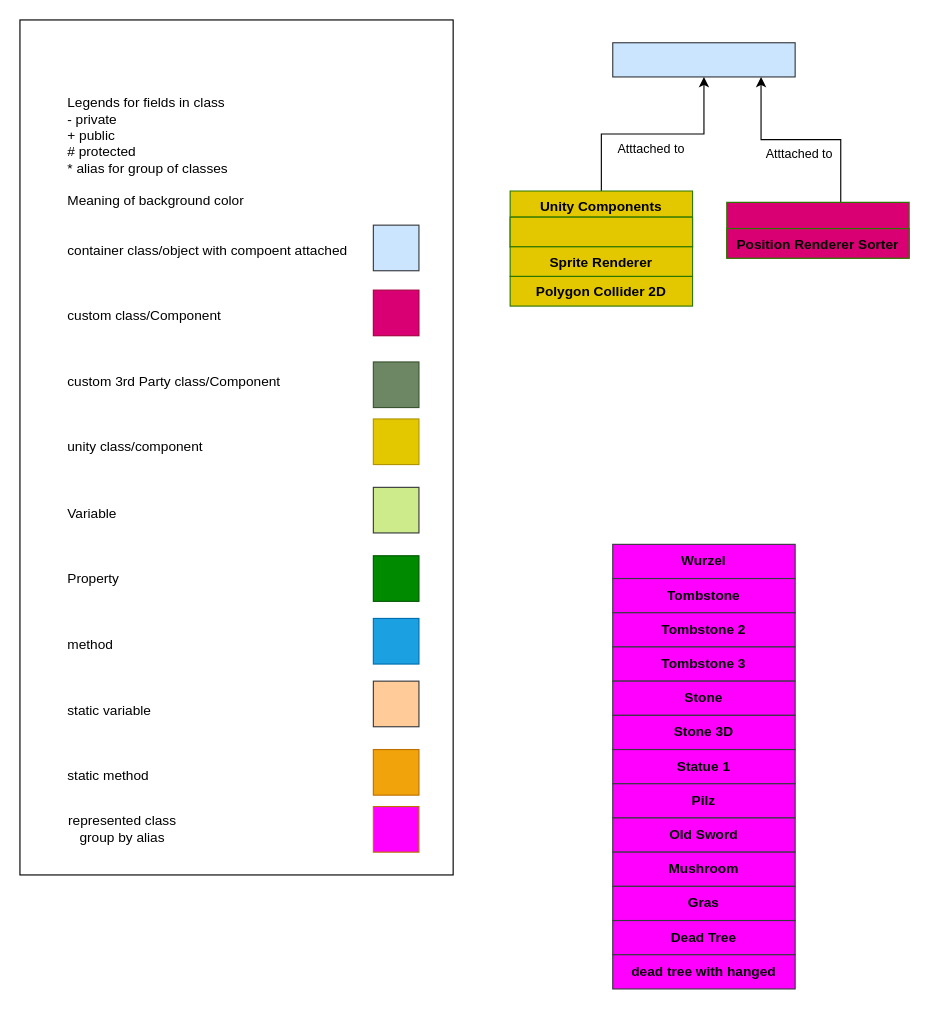
This 929x1009 diagram has some shape labels left out. The box of each missing label's shape, as (x1, y1, x2, y2) in pixels:
Custom Components: (726, 201, 909, 258)
Enviroment*: (612, 42, 795, 77)
Transfrom: (509, 216, 693, 247)
